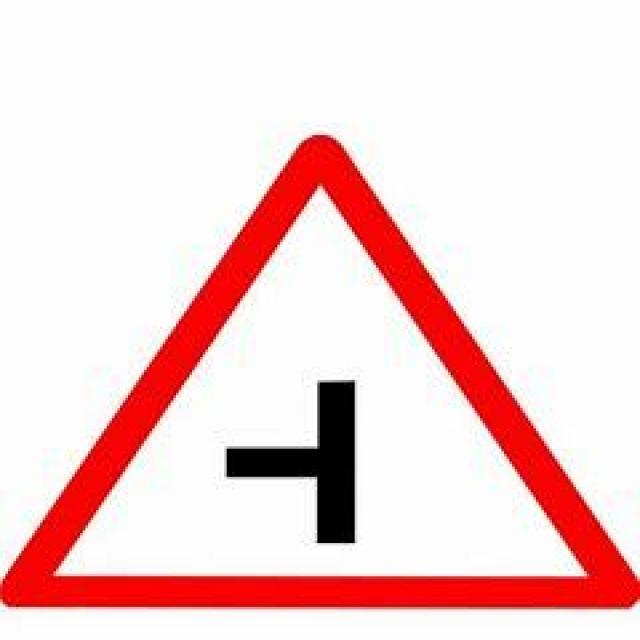SIDE_ROAD_LEFT: (0, 132, 637, 606)
